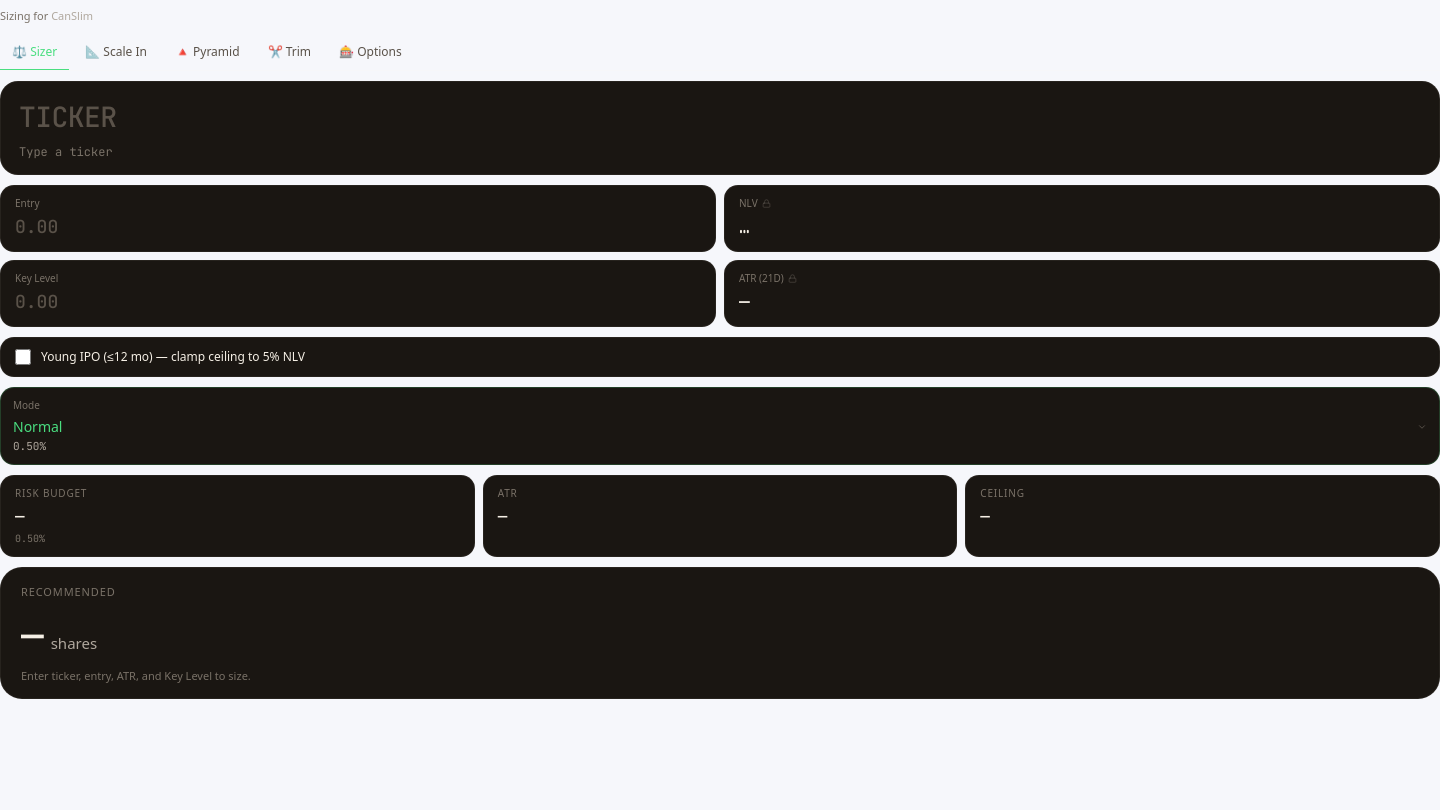
MobilePositionSizer — Scale-In math › risk-free position renders the risk-free banner and success verdict
Click the tab "📐 Scale In" at (116, 52), box [73,34,159,70]
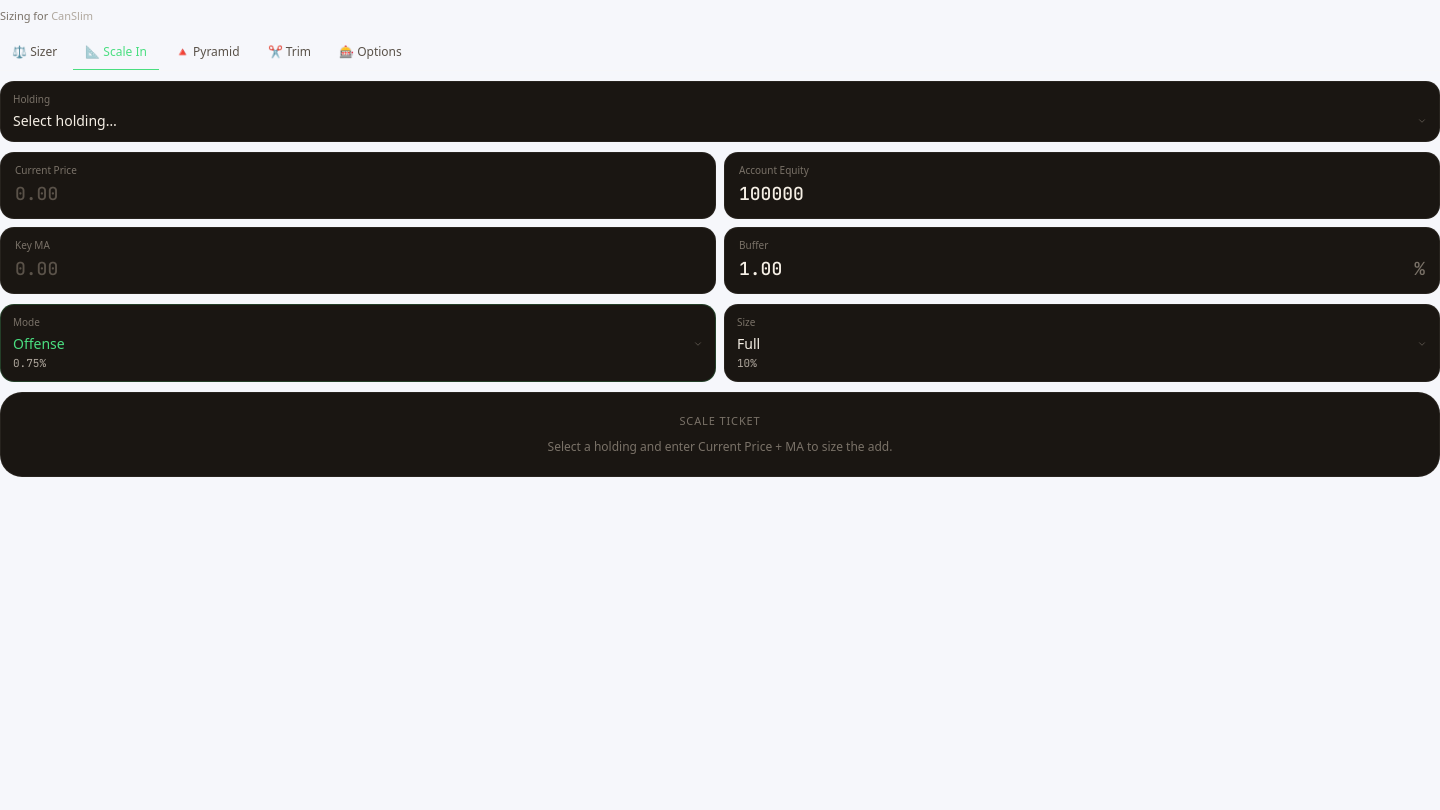
Click the button with aria-label "Holding:" at (32, 98), box [0,80,1439,142]
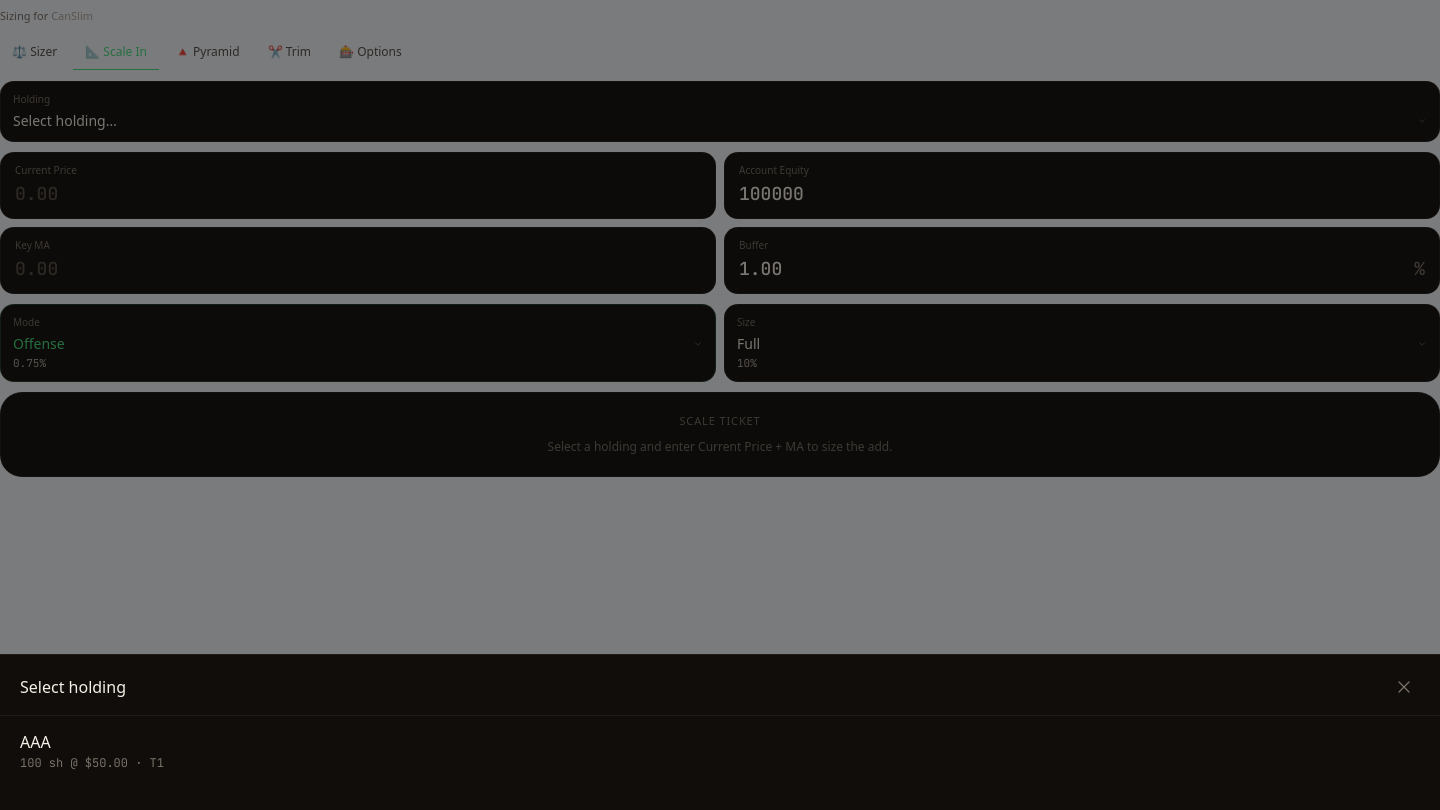
Click the text "AAA" at (35, 742), box [20,731,51,753]
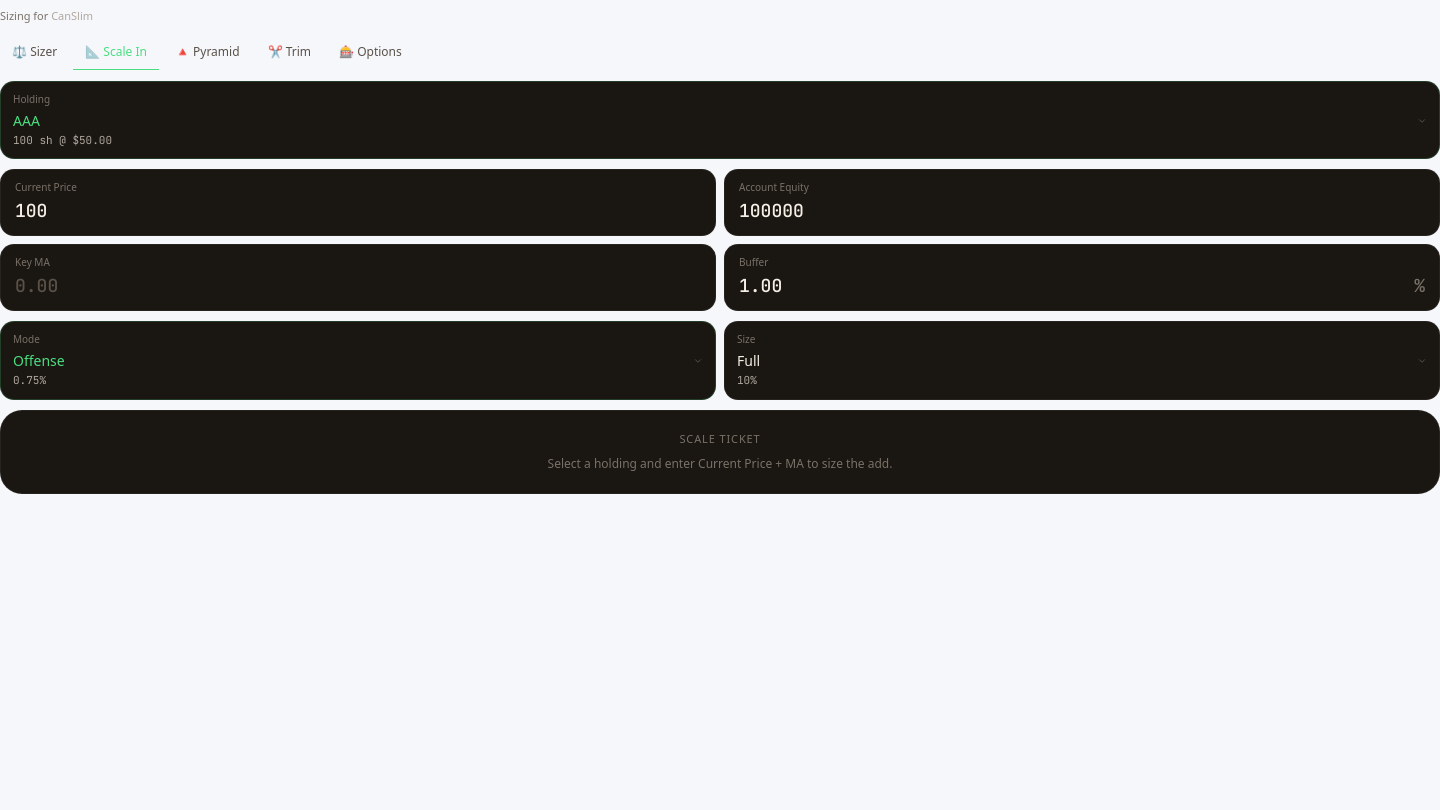
Now the dialog is gone
Replace the text in the field labelled "Current Price" with "60" at (358, 211), box [15,197,701,225]
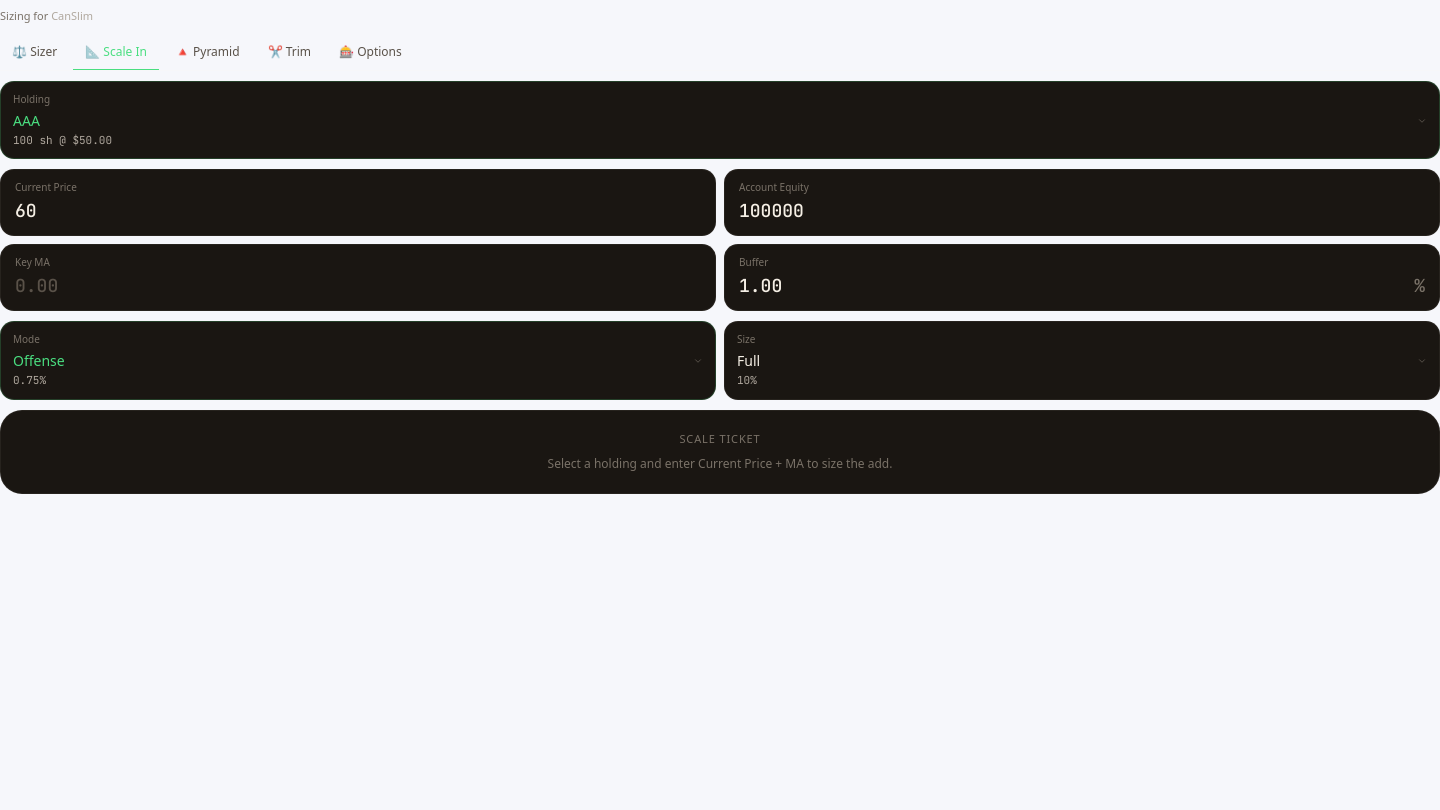
Type "55" into the field named "Key MA level" at (358, 286), box [15,272,701,300]
(page scrolled)
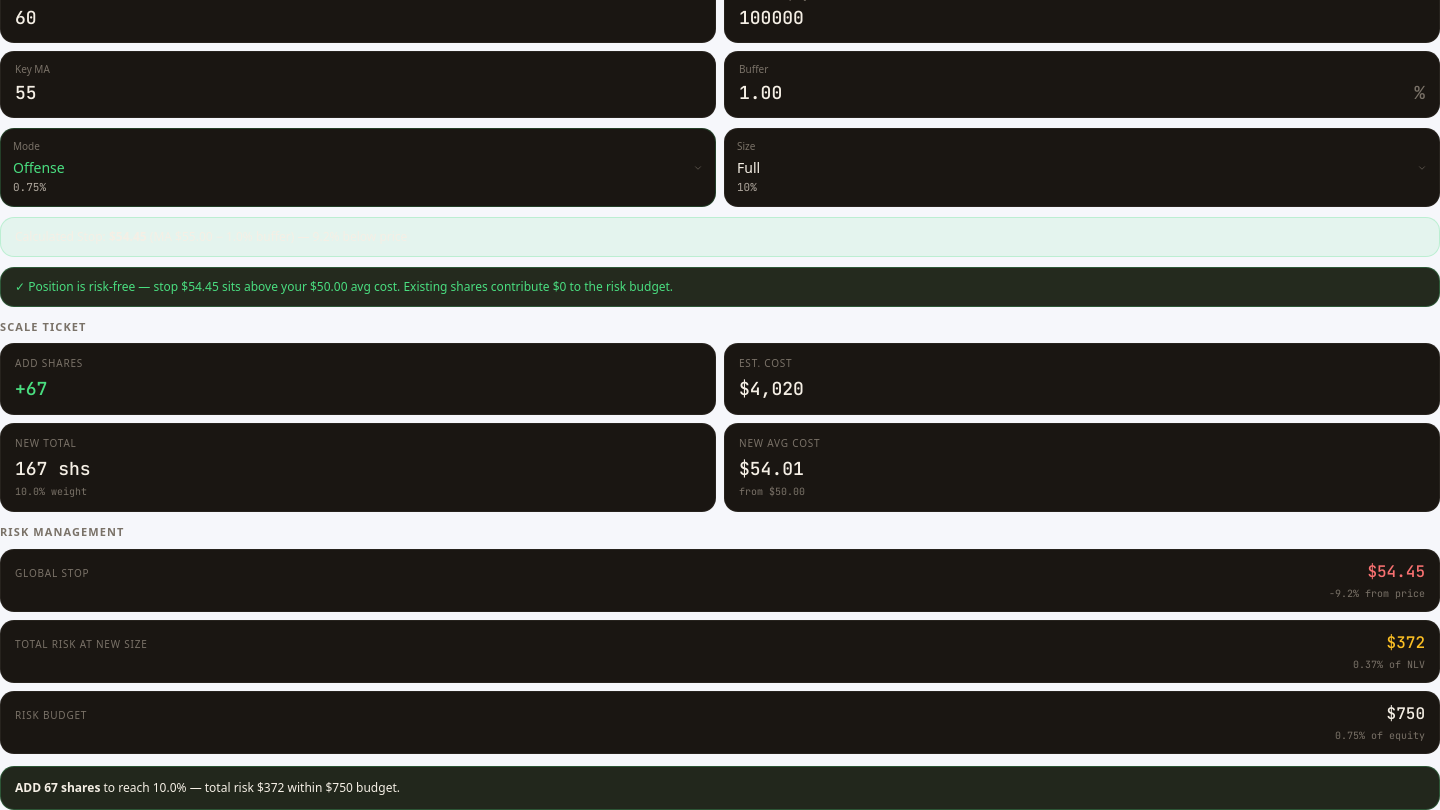
Now the text with test id "scale-risk-free-banner" is shown, box [0,266,1439,306]
Now the text "+67" is shown, box [15,377,47,400]
Now the element with test id "scale-verdict-success" is shown, box [0,766,1439,809]
